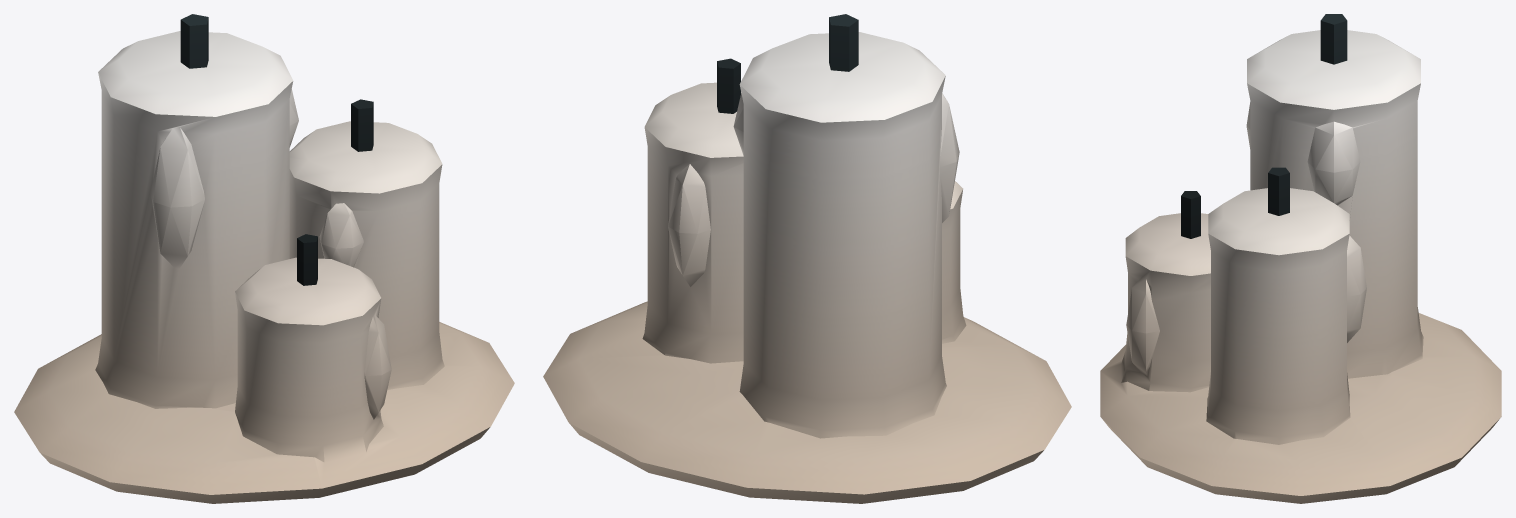
Rendered from candle_cluster.glb.
3 renders of one model, left to right at view 1: azimuth 30°, elevation 25°; view 2: azimuth 150°, elevation 25°; view 3: azimuth 270°, elevation 25°, orthographic. The views are drawn at different scales.
Parts seen in each view (by area): view 1: candle_cluster; view 2: candle_cluster; view 3: candle_cluster.
Boxes of the visible parts, bbox=[...] form: candle_cluster: bbox=[14, 14, 514, 503]; candle_cluster: bbox=[543, 14, 1071, 503]; candle_cluster: bbox=[1100, 14, 1501, 503].
Size of the model in its own units: 0.88 by 0.73 by 0.7292.
Materials: 1 (1 with a texture image).
